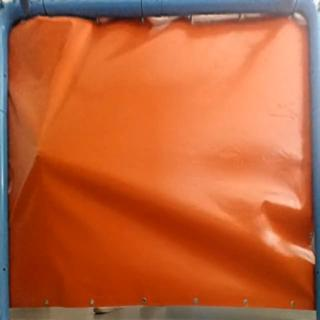Hit-hRxx: (33, 146, 45, 161)
